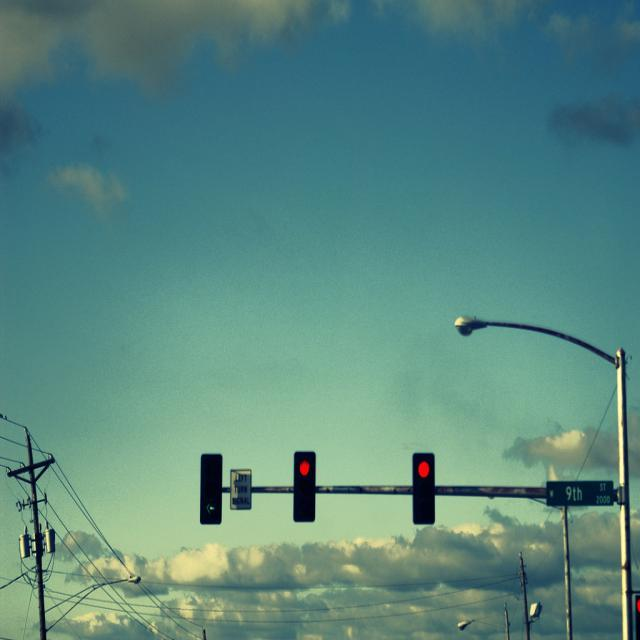traffic light: (200, 456, 223, 526), (413, 453, 435, 525), (294, 454, 316, 523)
